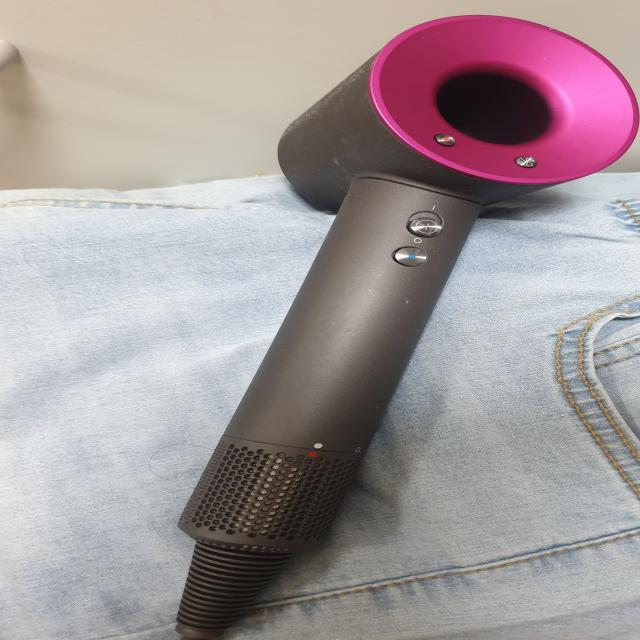dryer: (173, 13, 640, 640)
